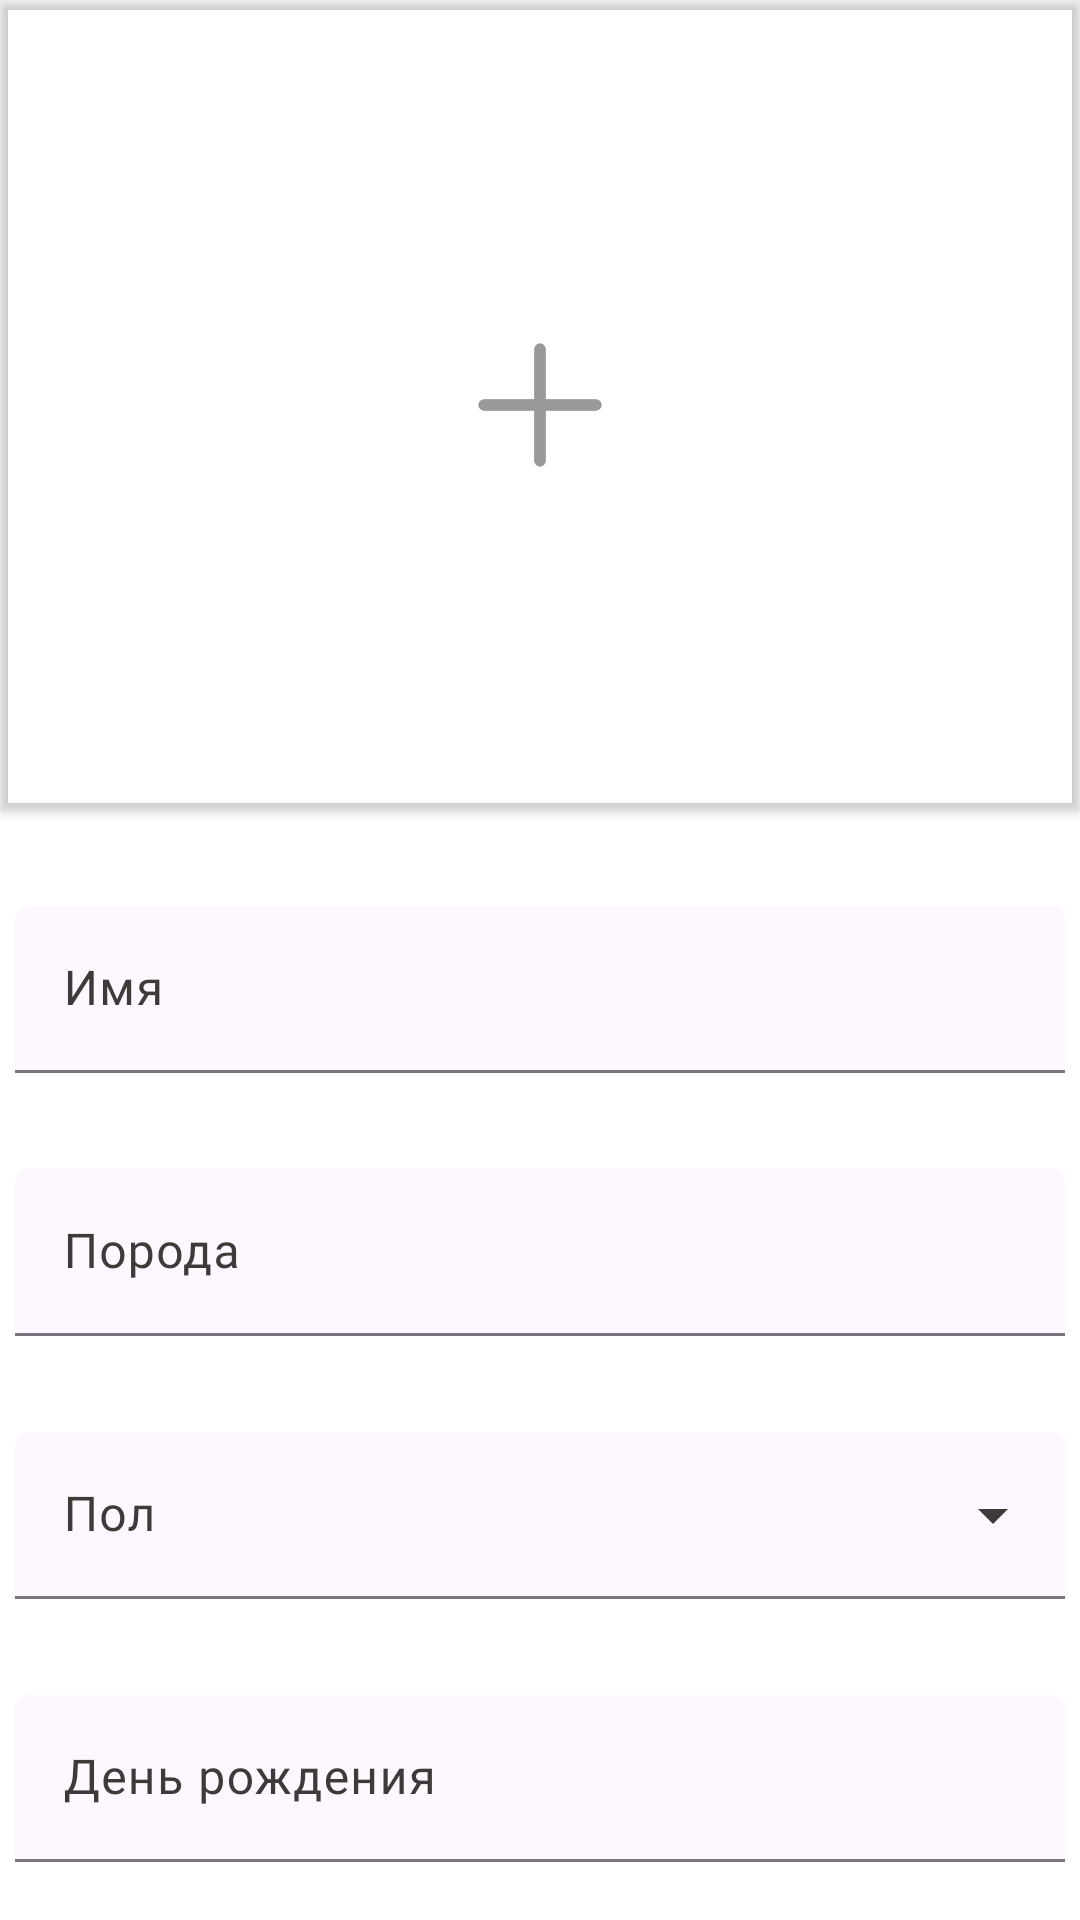

Named icons in this screenshot (1080×1920) and their centers, (x,y):
plus: (540,405)
